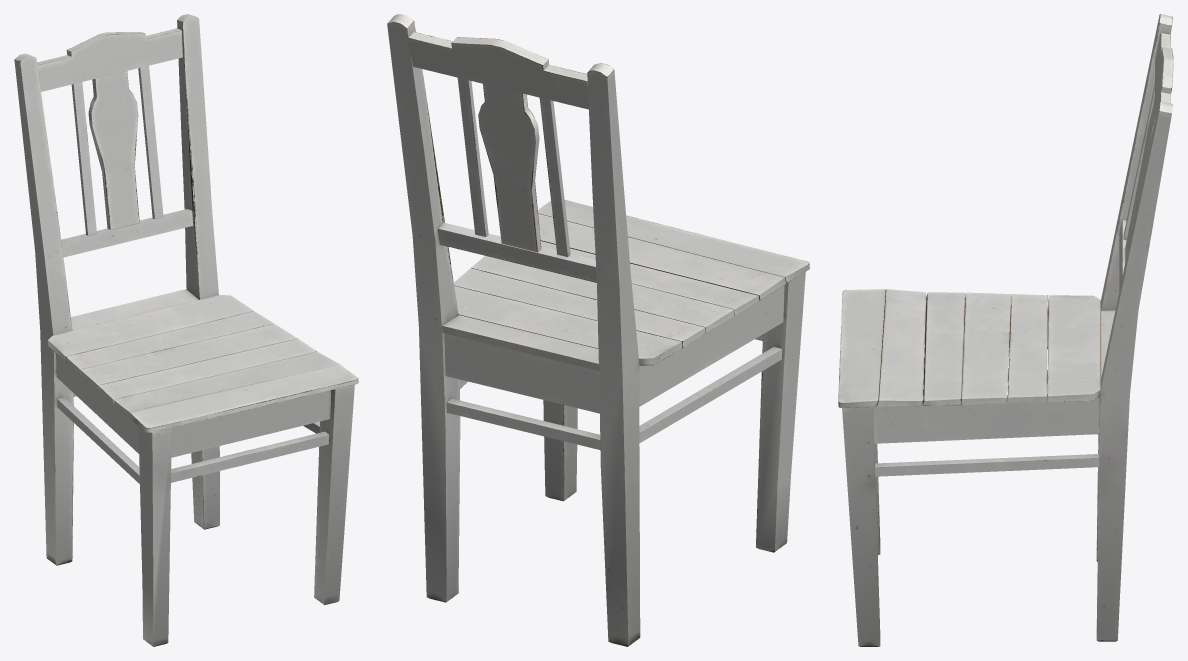
File: painted_wooden_chair_01.glb
3 views of the same model, side by side, from view 1: azimuth 30°, elevation 25°; view 2: azimuth 150°, elevation 25°; view 3: azimuth 270°, elevation 25° (orthographic). The views are drawn at different scales.
Visible parts, largest first — view 1: painted_wooden_chair_01; view 2: painted_wooden_chair_01; view 3: painted_wooden_chair_01.
Part boxes in pixels (x1,y1,x2,y2): painted_wooden_chair_01: [14, 14, 358, 646]; painted_wooden_chair_01: [387, 14, 809, 646]; painted_wooden_chair_01: [838, 14, 1173, 646].
Size of the model in its own units: 0.4298 by 0.9558 by 0.5391.
Materials: 1 (1 with a texture image).
